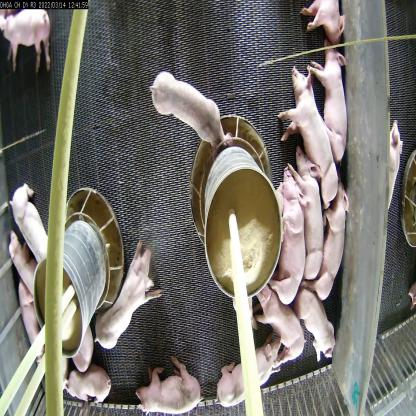Pig: (285, 59, 342, 210), (142, 56, 224, 158), (291, 147, 339, 301), (93, 236, 155, 353), (310, 42, 352, 166), (215, 330, 274, 414), (316, 174, 353, 299), (298, 272, 342, 372), (256, 271, 302, 364), (273, 164, 303, 299), (136, 355, 202, 415), (5, 176, 49, 260), (0, 3, 55, 62), (63, 362, 110, 415)
